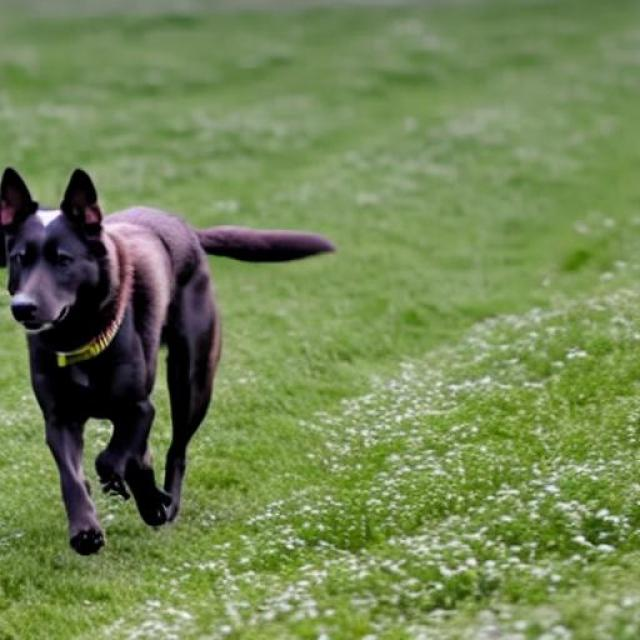Dog: (0, 166, 336, 556)
